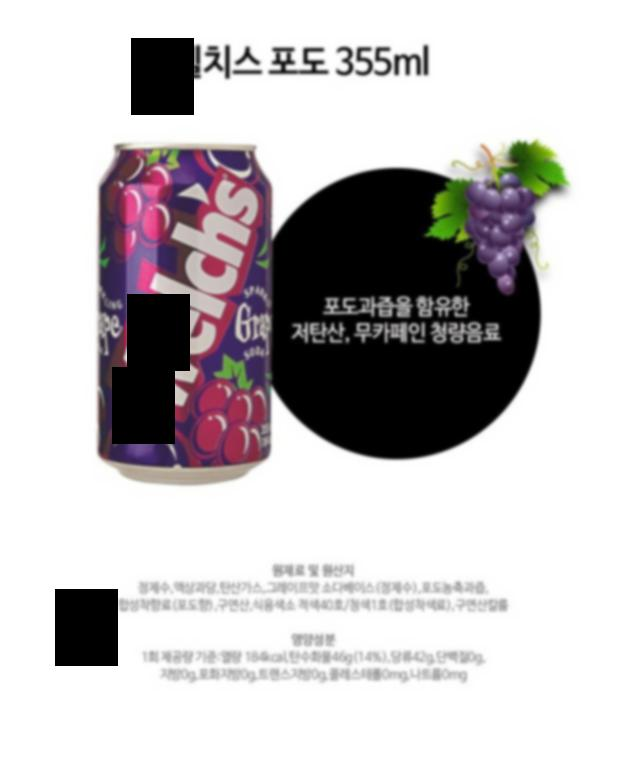welchs_grape: (90, 127, 272, 473)
